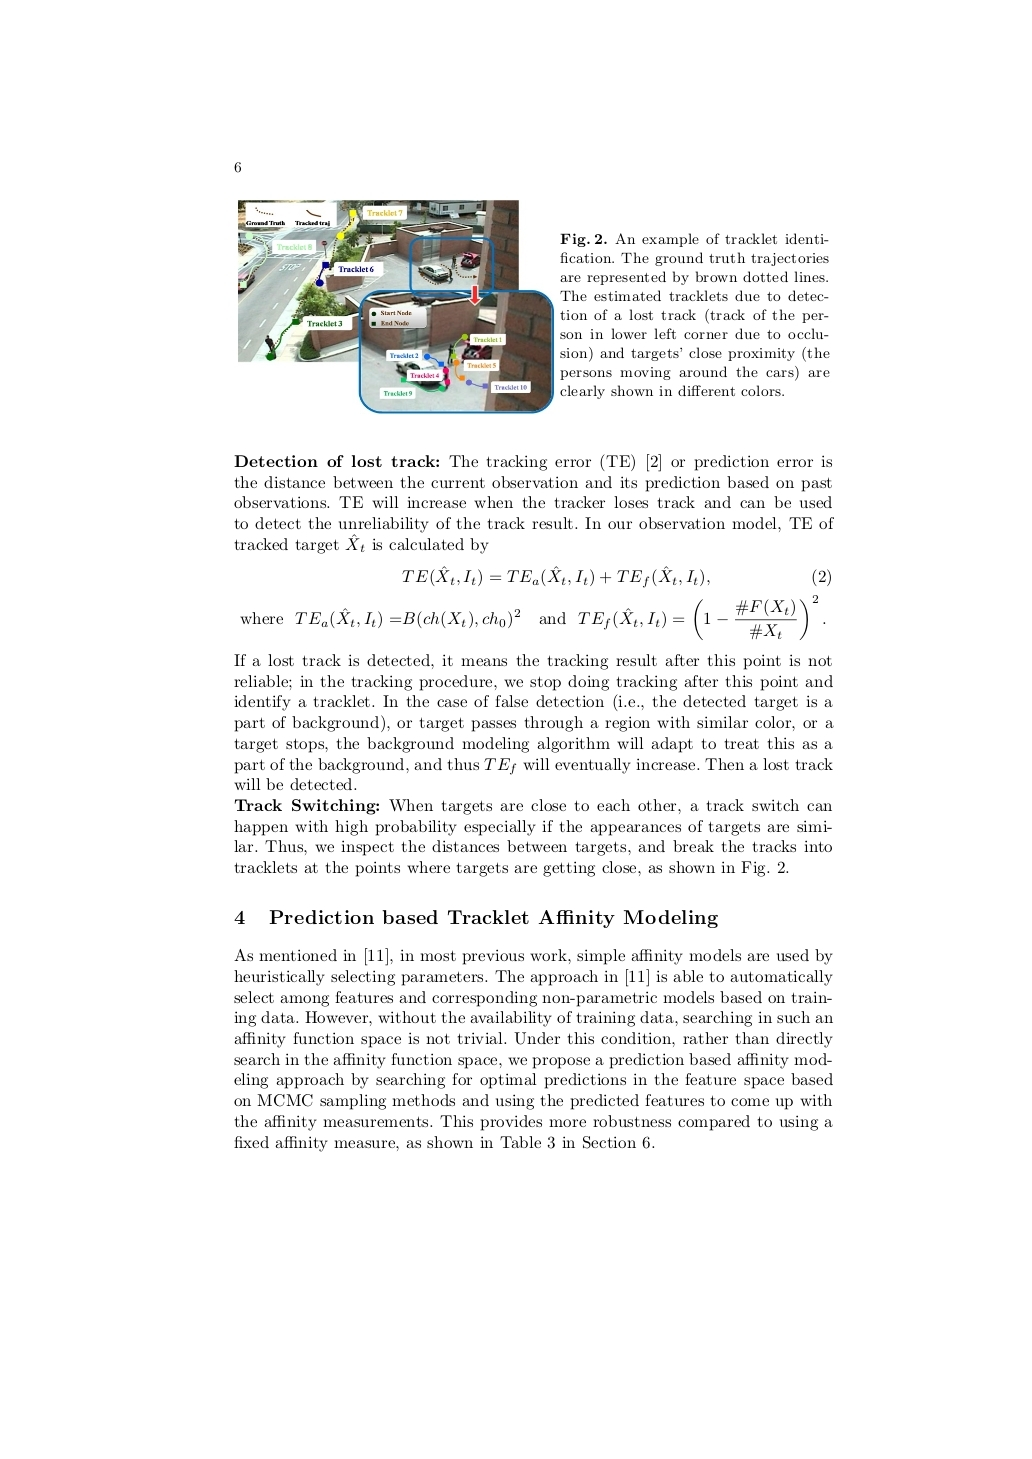figure: (238, 200, 553, 413)
formula: (402, 565, 830, 588)
